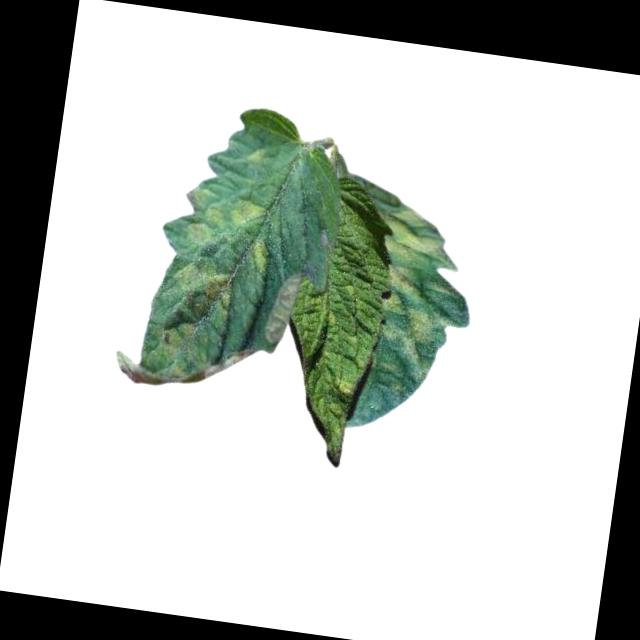Leaf_Mold: (140, 181, 277, 381), (364, 202, 463, 383), (322, 375, 356, 406)
